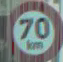Speed limit: (2, 1, 56, 56)
